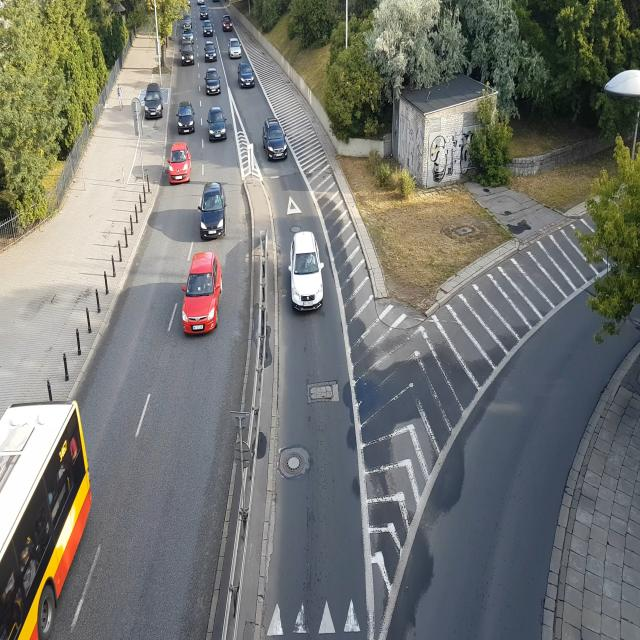bus: (1, 400, 92, 640)
car: (288, 230, 327, 320), (182, 251, 223, 336), (200, 182, 227, 240), (262, 121, 288, 160), (169, 143, 193, 184), (144, 85, 164, 120), (208, 108, 228, 141), (178, 104, 196, 135), (179, 42, 197, 68), (237, 63, 256, 87), (205, 68, 220, 94), (205, 80, 222, 96), (182, 28, 196, 46), (229, 41, 242, 60), (182, 13, 194, 32), (198, 5, 210, 21), (203, 49, 217, 61), (202, 23, 214, 36), (223, 18, 233, 31)
